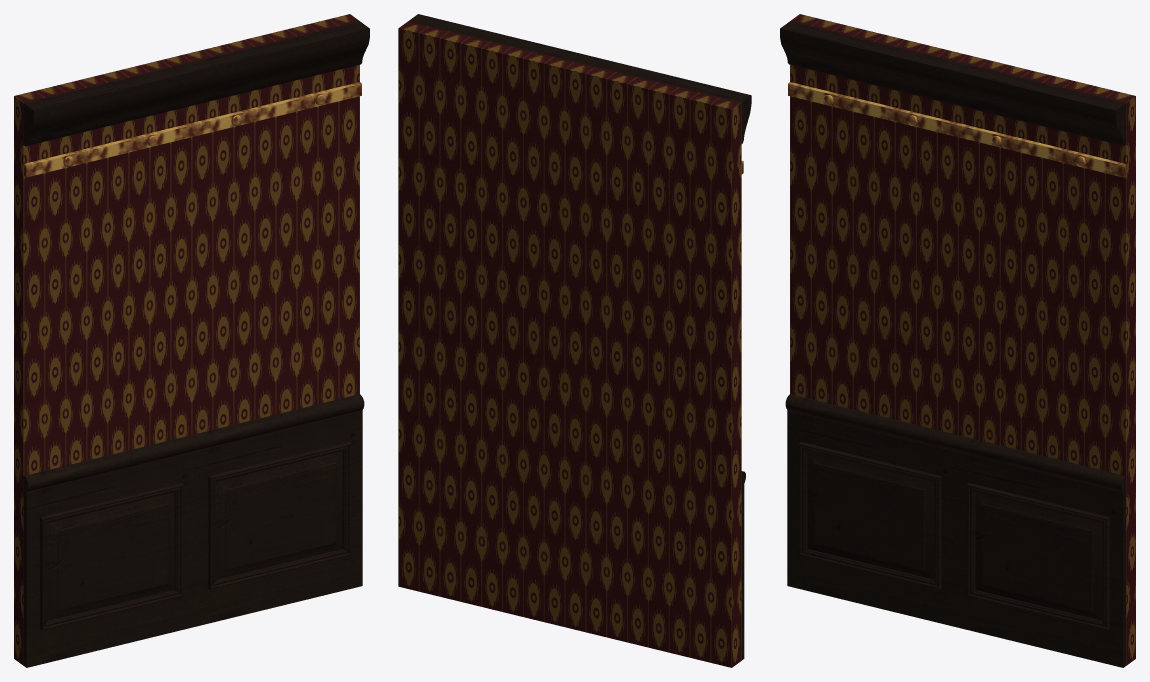
File: Wall_Panel_Clean.gltf
The picture shows the model from 3 angles, left to right: view 1: azimuth 30°, elevation 25°; view 2: azimuth 150°, elevation 25°; view 3: azimuth 330°, elevation 25°; orthographic projection.
Parts seen in each view (by area): view 1: Wall_Panel_Clean_Wall, Wall_Panel_Clean_Wood, Wall_Panel_Clean_Frieze; view 2: Wall_Panel_Clean_Wall, Wall_Panel_Clean_Wood; view 3: Wall_Panel_Clean_Wall, Wall_Panel_Clean_Wood, Wall_Panel_Clean_Frieze.
Part boxes in pixels (left/top/right/bottom): Wall_Panel_Clean_Wall: left=14, top=14, right=359, bottom=665; Wall_Panel_Clean_Wood: left=23, top=21, right=369, bottom=667; Wall_Panel_Clean_Frieze: left=24, top=82, right=361, bottom=177; Wall_Panel_Clean_Wall: left=398, top=21, right=741, bottom=667; Wall_Panel_Clean_Wood: left=408, top=14, right=751, bottom=660; Wall_Panel_Clean_Wall: left=790, top=14, right=1135, bottom=665; Wall_Panel_Clean_Wood: left=780, top=21, right=1126, bottom=667; Wall_Panel_Clean_Frieze: left=788, top=82, right=1125, bottom=177.
Size of what is drawn, in the model's own units: 2 by 3.2 by 0.205.
Materials: 3 (3 with a texture image).
